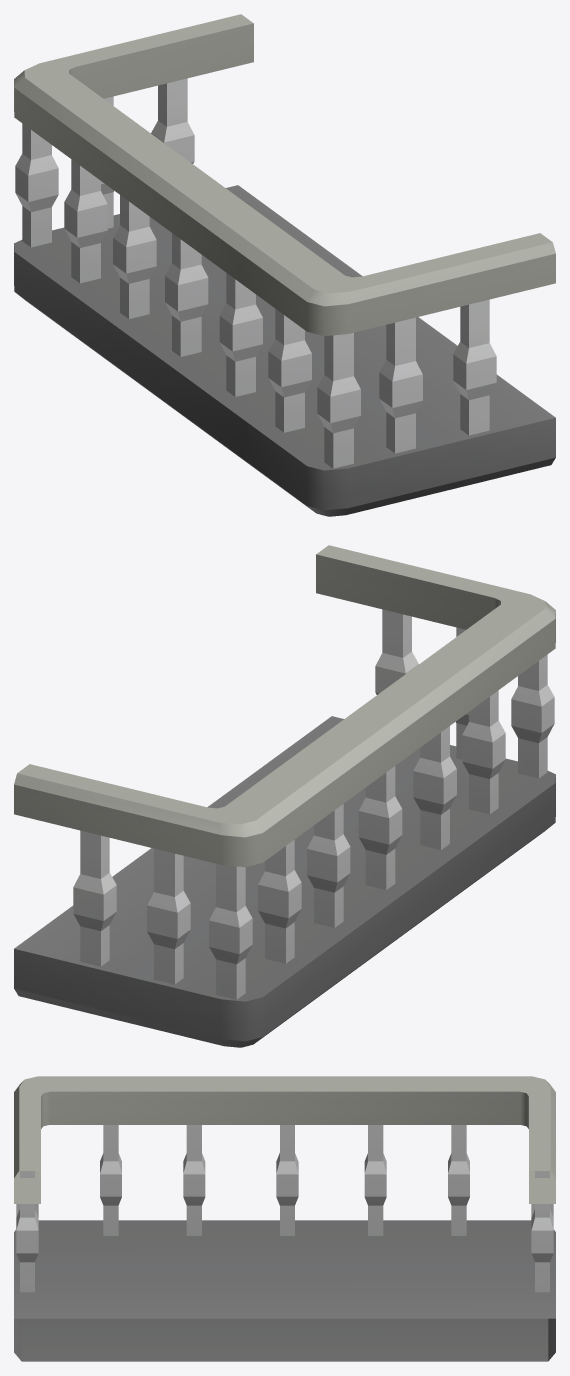
File: Balcon_2_1_A.fbx
3 views of the same model, one above another, from view 1: azimuth 30°, elevation 25°; view 2: azimuth 150°, elevation 25°; view 3: azimuth 270°, elevation 25° (orthographic). The views are drawn at different scales.
Parts seen in each view (by area): view 1: Balcon_2_1_A; view 2: Balcon_2_1_A; view 3: Balcon_2_1_A.
Part boxes in pixels (left/top/right/bottom): Balcon_2_1_A: left=14, top=14, right=555, bottom=516; Balcon_2_1_A: left=14, top=545, right=555, bottom=1047; Balcon_2_1_A: left=14, top=1076, right=555, bottom=1361.
Bounding box in the file's own units: 100 × 90.92 × 234.
